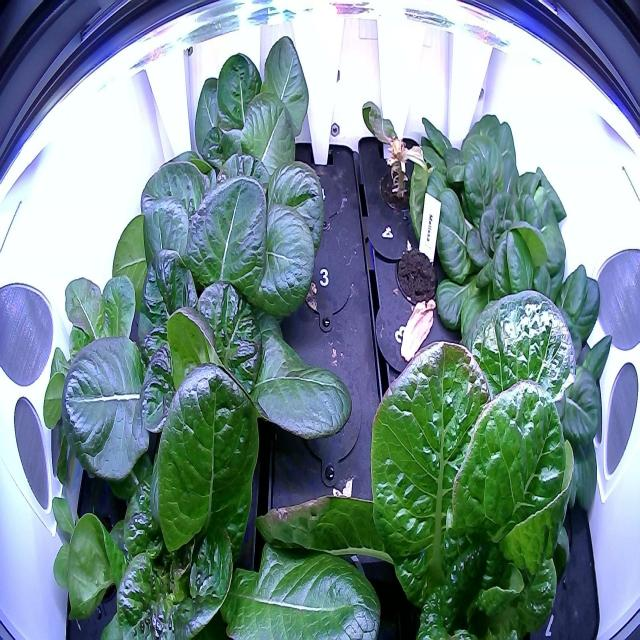Ready: (59, 222, 361, 555), (46, 356, 391, 636), (452, 257, 620, 554), (120, 130, 327, 346), (170, 26, 320, 202), (426, 165, 573, 335), (409, 106, 524, 228)
empty_pod: (290, 358, 364, 470), (298, 244, 354, 330), (297, 164, 347, 232)
